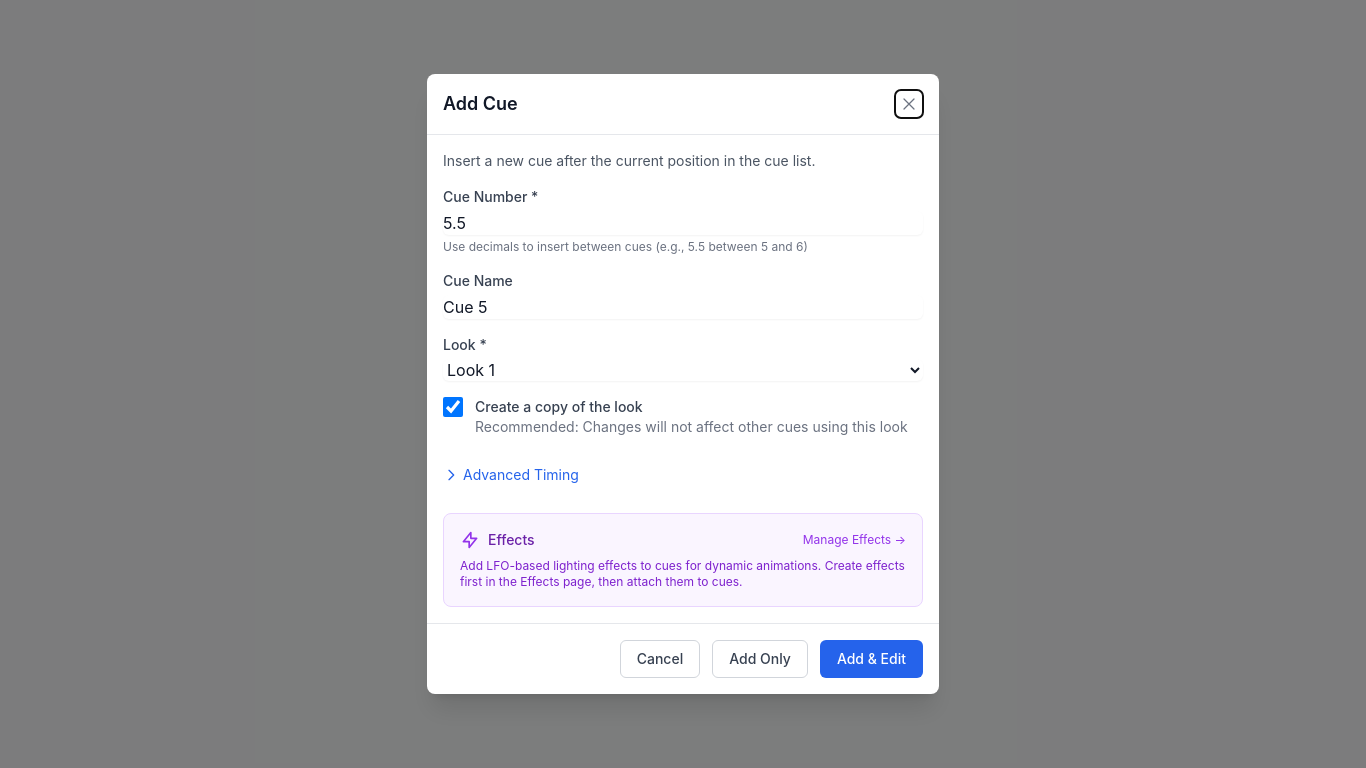
it: AddCueDialog › Validation › shows error when no look is selected
Select "Select a look..." in the dropdown labelled "Look *" at coordinates (683, 370), box [443,359,923,381]
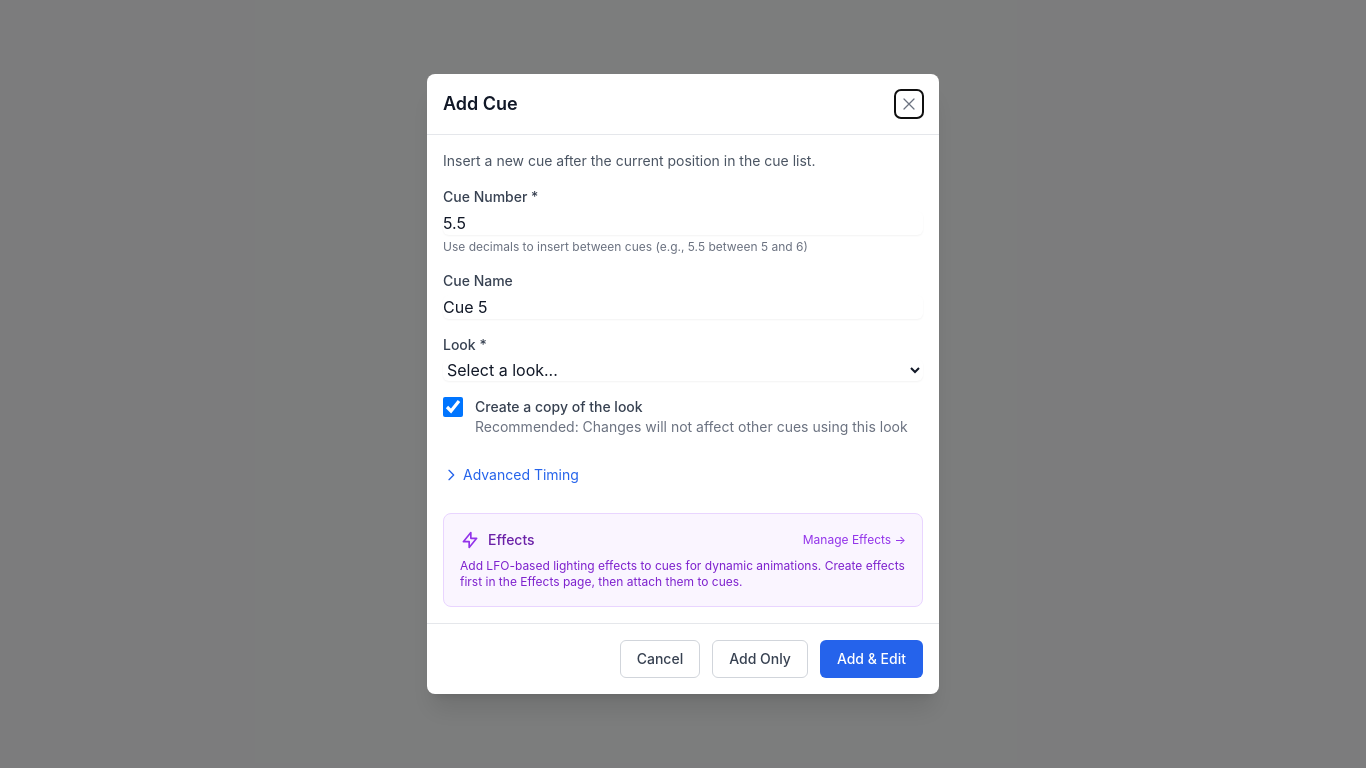
Click the button "Add & Edit" at coordinates (871, 659), box [820,640,923,678]
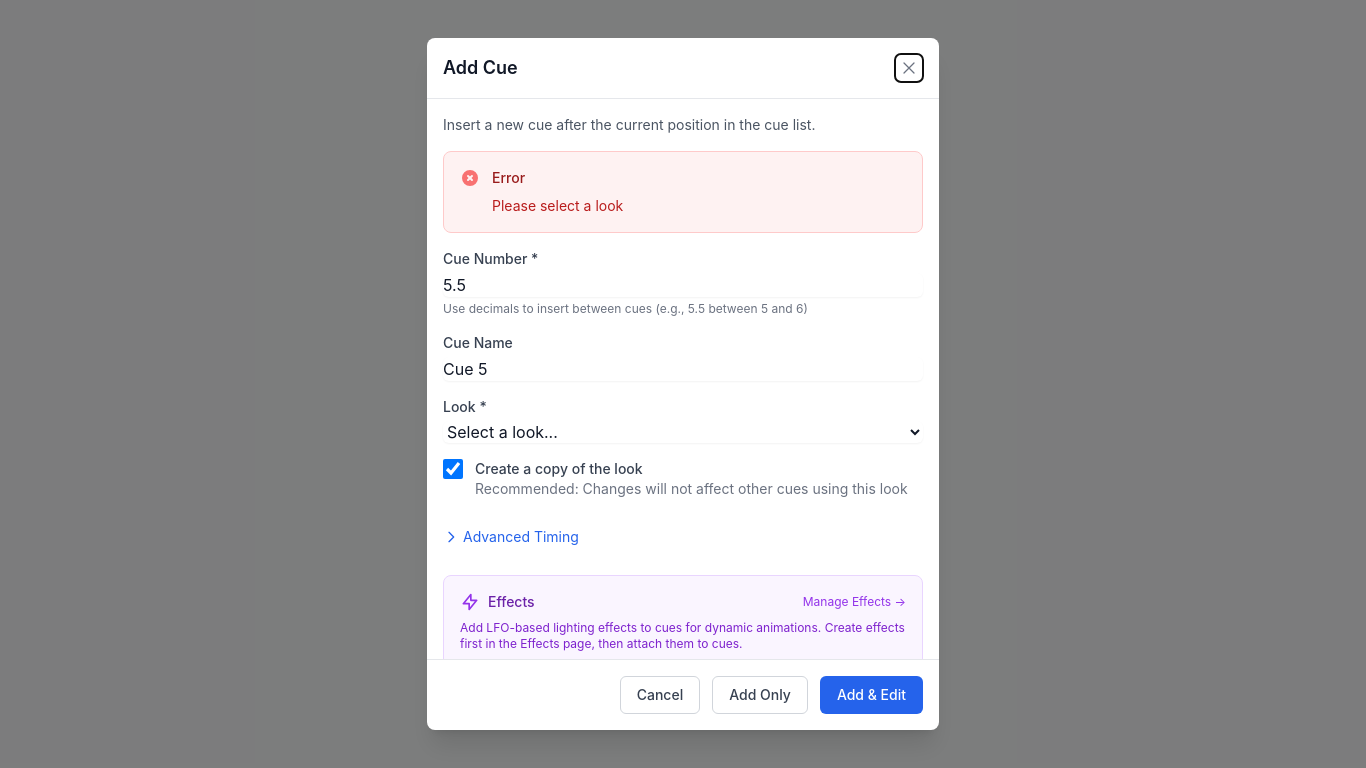
Result: the text "Please select a look" is shown at [492,196,623,216]
